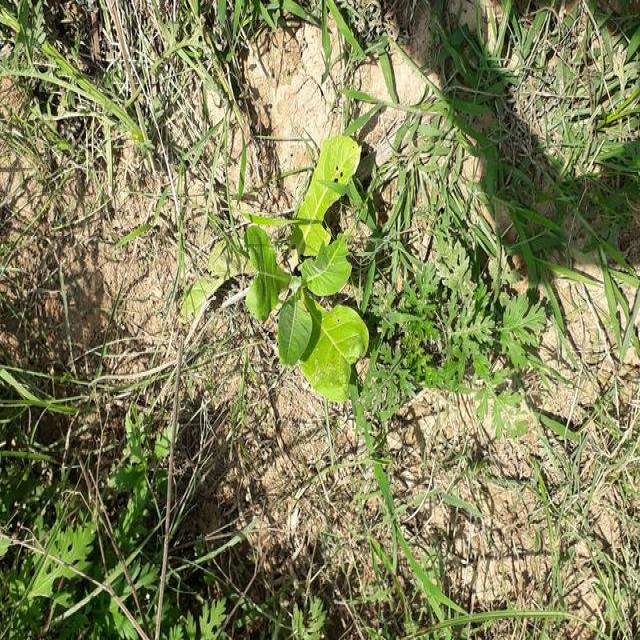crop: (247, 133, 366, 402)
